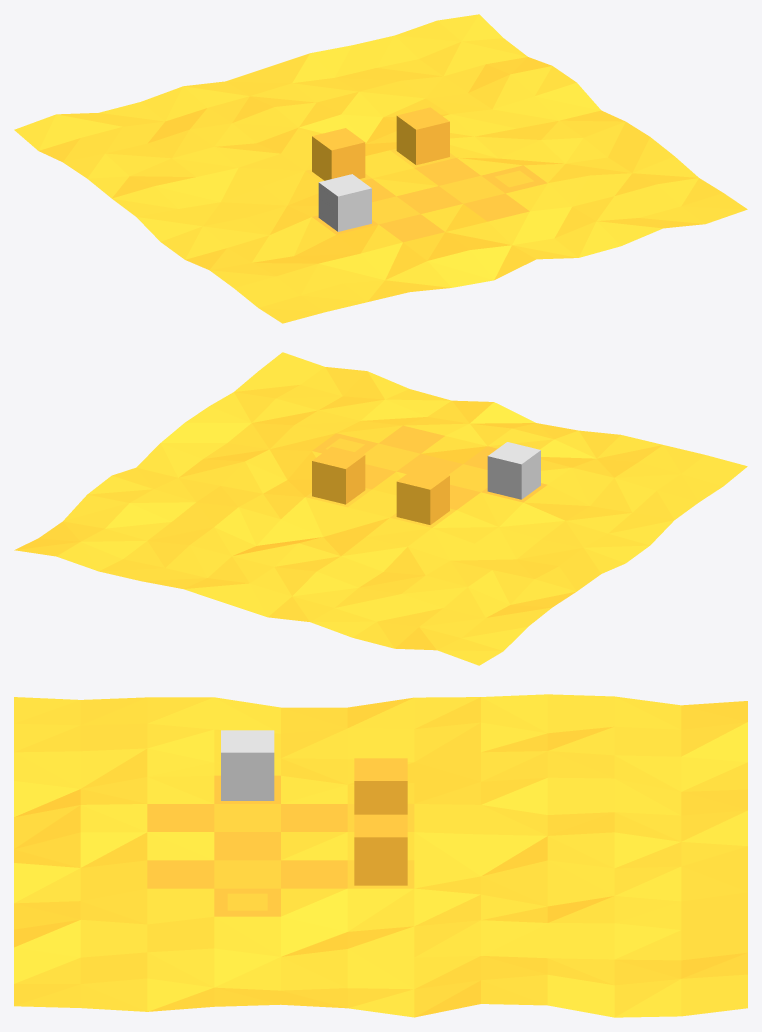
The model's file is Level16.dae.
3 renders of one model, top to bottom at view 1: azimuth 30°, elevation 25°; view 2: azimuth 150°, elevation 25°; view 3: azimuth 270°, elevation 25°, orthographic. The views are drawn at different scales.
Parts seen in each view (by area): view 1: surface, Blocky, Enemy1, Enemy0; view 2: surface, Enemy0, Enemy1, Blocky; view 3: surface, Enemy1, Blocky, Enemy0.
Part boxes in pixels (box(x1,y1,x2,y2)): surface: box(14, 14, 747, 323); Blocky: box(318, 174, 371, 231); Enemy1: box(396, 107, 449, 165); Enemy0: box(312, 128, 365, 180); surface: box(14, 352, 747, 665); Enemy0: box(396, 467, 449, 524); Enemy1: box(312, 446, 365, 504); Blocky: box(487, 442, 540, 499); surface: box(14, 694, 747, 1017); Enemy1: box(354, 814, 407, 885); Blocky: box(221, 730, 274, 800); Enemy0: box(354, 758, 407, 814).
Size of the model in its own units: 11 by 11 by 1.1.
